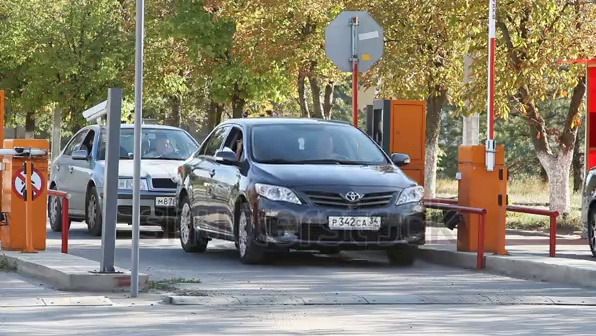licenseplate: (329, 217, 384, 227), (154, 197, 185, 211)
